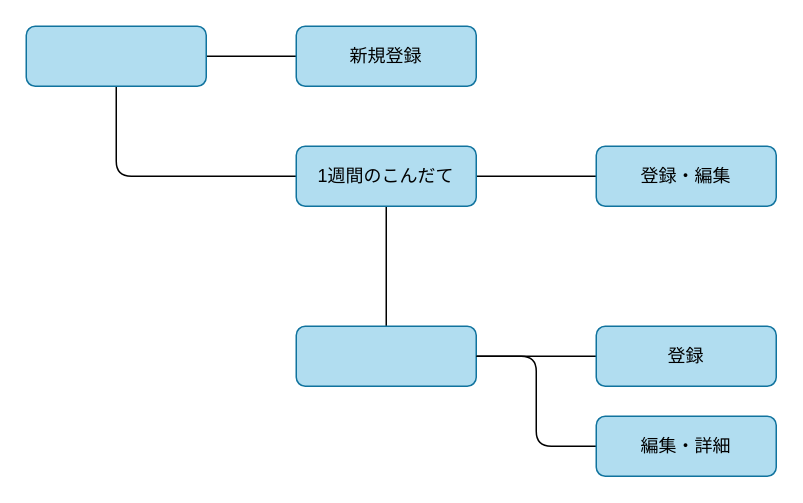
Image size: 803x503. Some labels were removed from this diagram. Here are the shapes that lost their labels. From the top down, the centre of each, then its label:
the point at 115,55: ログイン画面
the point at 385,355: 料理一覧
